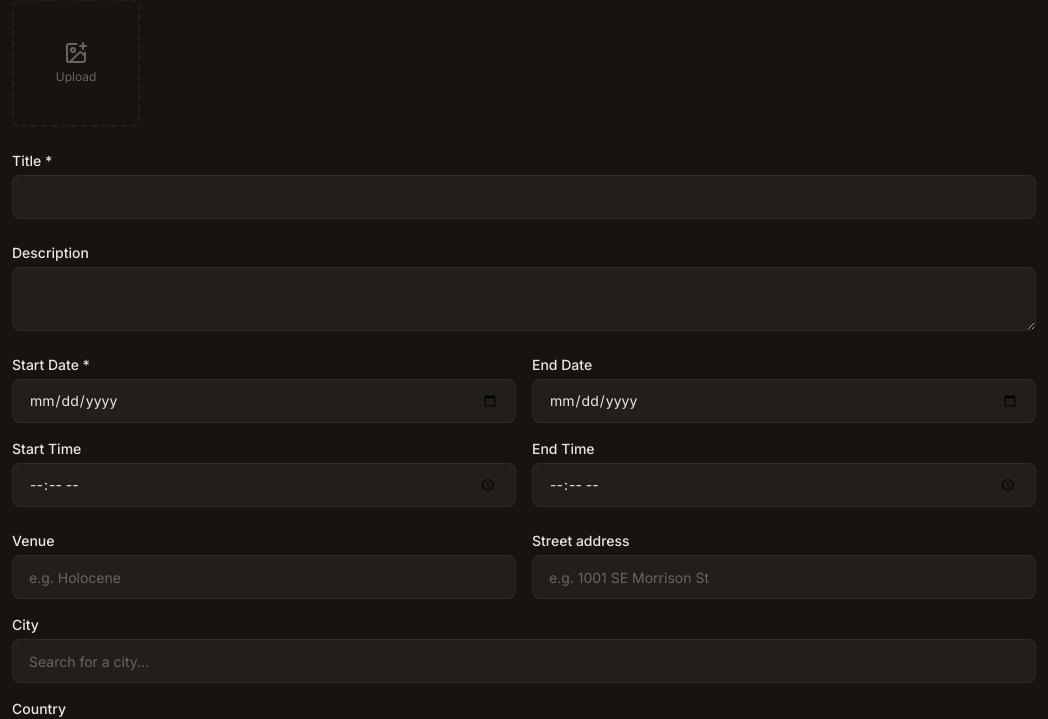
Test: EventForm › enables publish when title, start date, and city are filled
Type "Test Event" into the field labelled "Title *".
click(524, 197); type("Test Event")  # box [12, 175, 1036, 219]
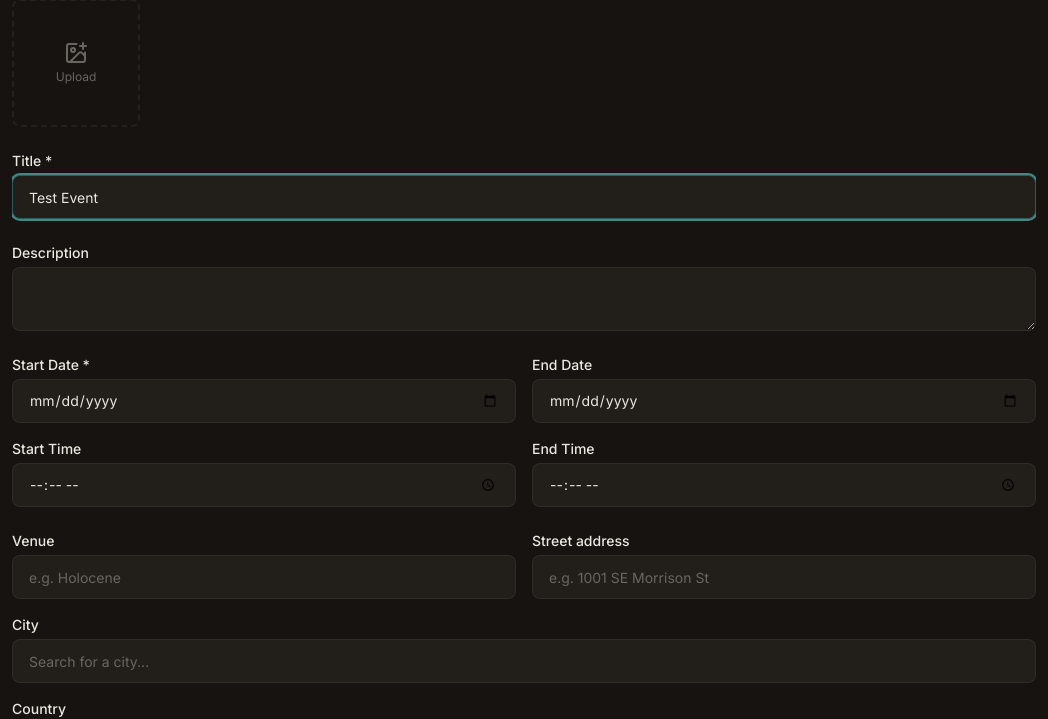
Type "2025-08-01" into the date field labelled "Start Date *".
click(264, 401); type("2025-08-01")  # box [12, 379, 516, 423]
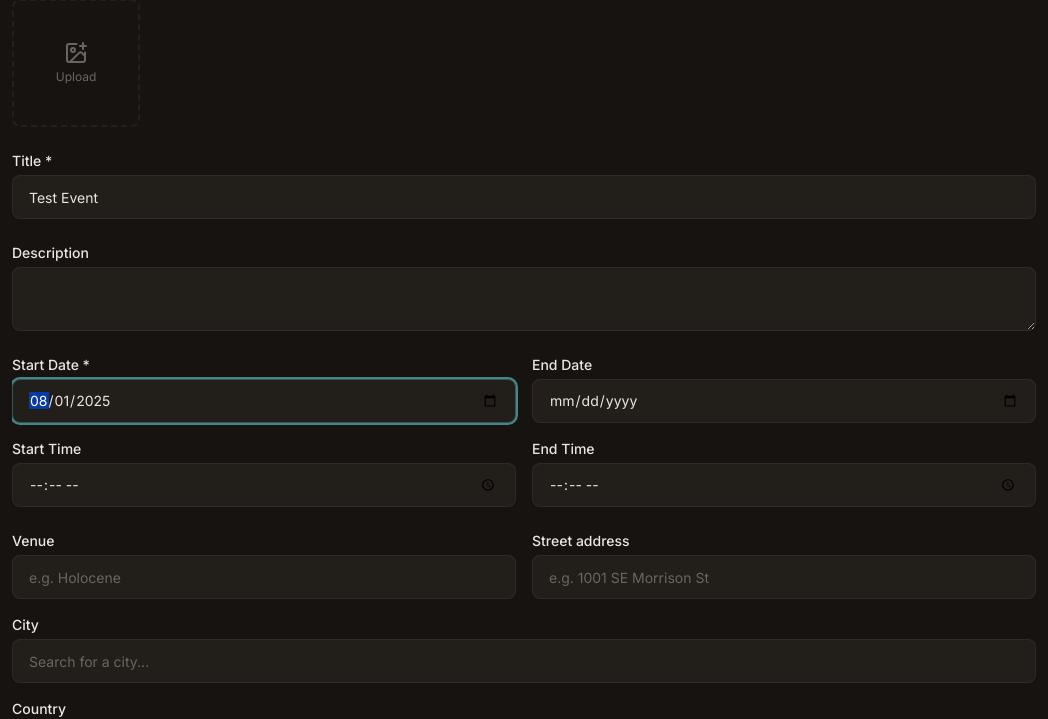
Type "po" into the dropdown named "event city".
click(524, 661); type("po")  # box [12, 639, 1036, 683]
(page scrolled)
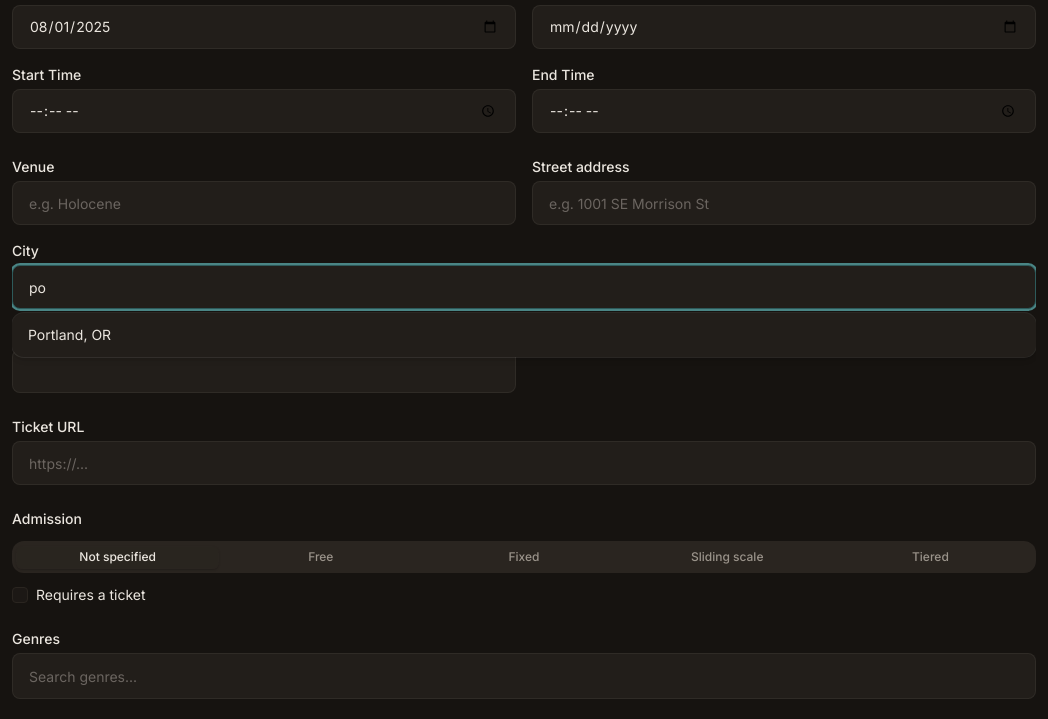
Click the option "Portland, OR".
click(70, 334)  # box [28, 326, 111, 343]
(page scrolled)
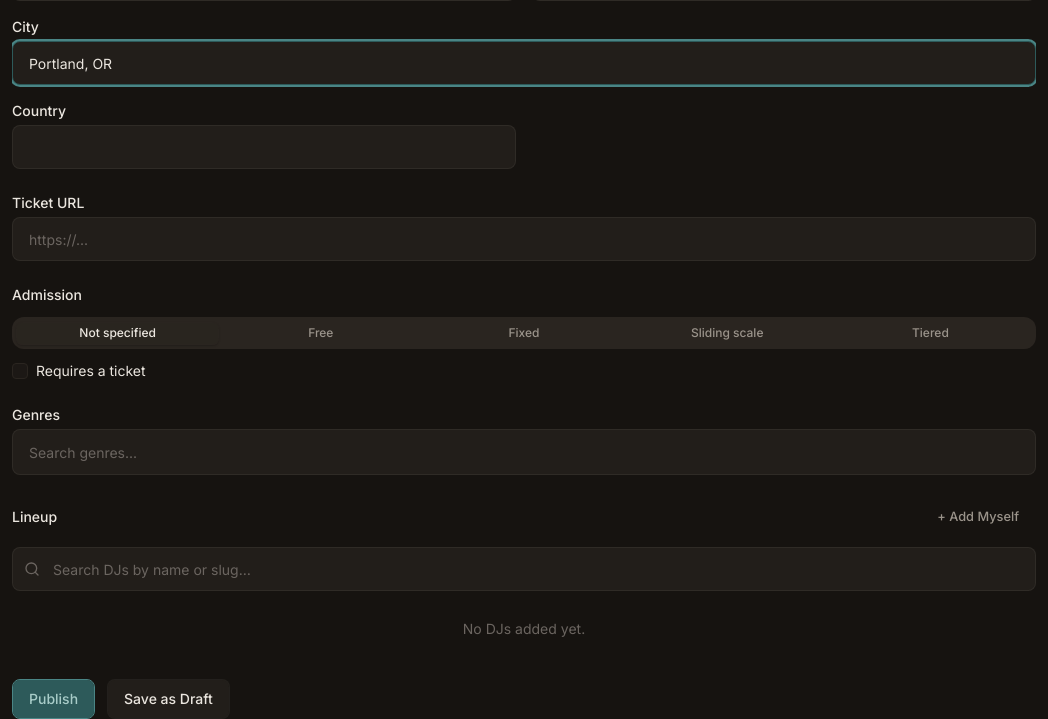
expect the button "Publish" is enabled: met, box [12, 679, 95, 718]
